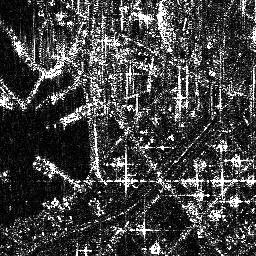ship: (30, 160, 54, 179)
